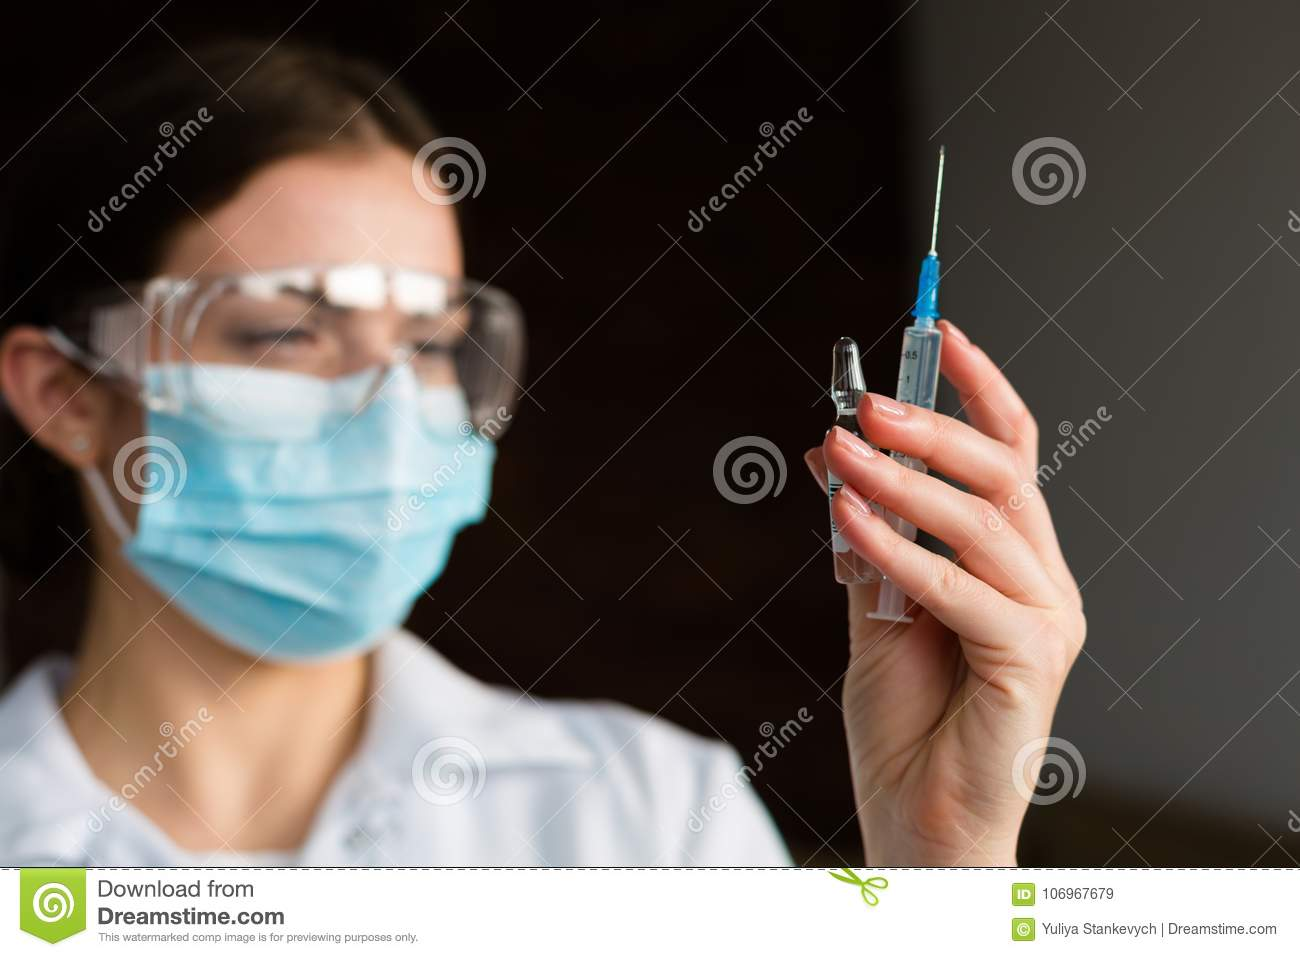mask: (123, 360, 504, 655)
